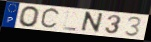3: (103, 14, 122, 35), (124, 16, 142, 37)
C: (39, 7, 61, 30)
L: (62, 10, 78, 31)
N: (79, 11, 105, 34)
O: (18, 5, 41, 28)
